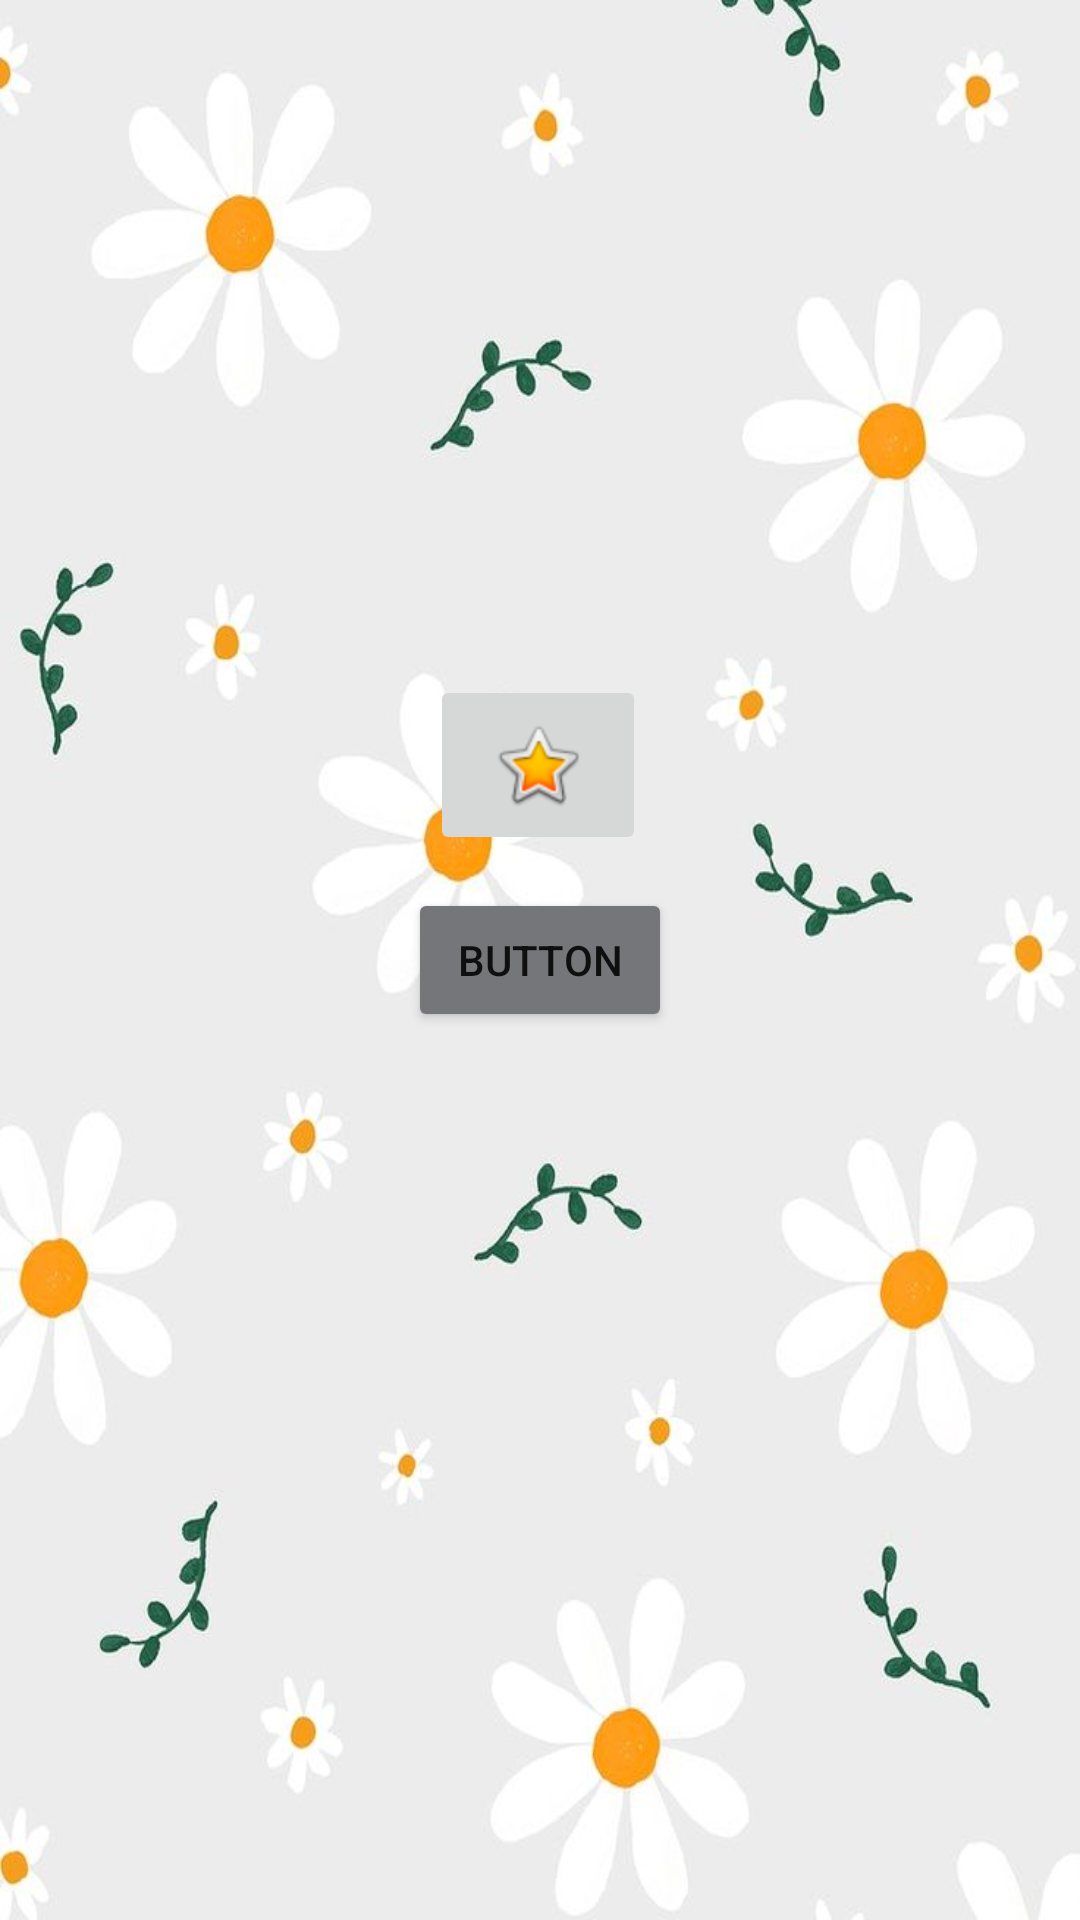

Screen size 1080×1920. Icon name, then its center in pixels as (x=x, y=y):
star on: (x=539, y=766)
